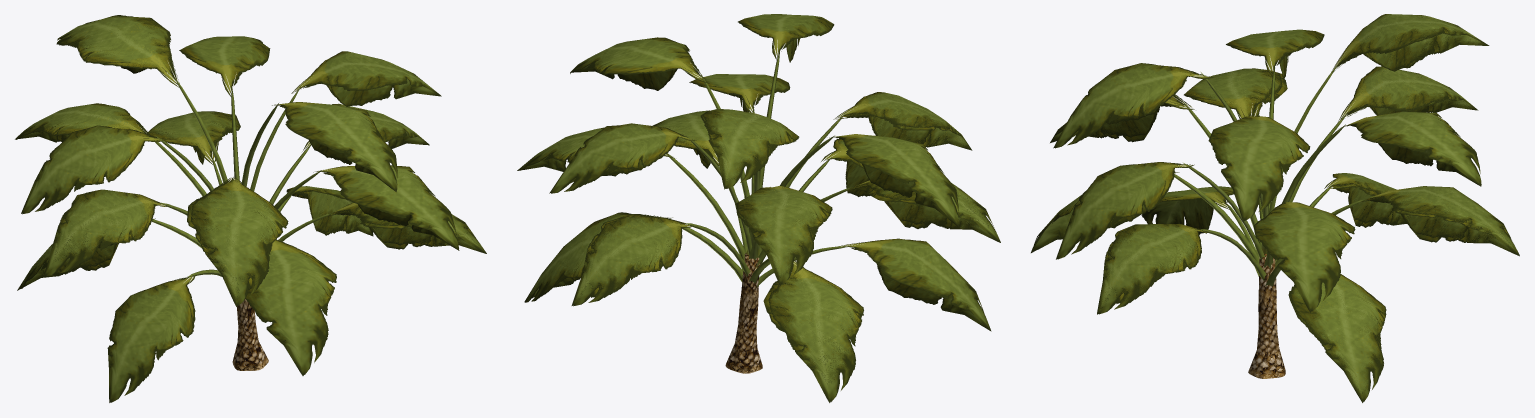
Rendered from SM_TI_Palm_ChunkyLeaves_1.fbx.
3 views of the same model, side by side, from view 1: azimuth 30°, elevation 25°; view 2: azimuth 150°, elevation 25°; view 3: azimuth 270°, elevation 25° (orthographic). The views are drawn at different scales.
Visible parts, largest first — view 1: SM_TI_Palm_ChunkyLeaves_1; view 2: SM_TI_Palm_ChunkyLeaves_1; view 3: SM_TI_Palm_ChunkyLeaves_1.
Boxes of the visible parts, x1,y1,x2,y2 form: SM_TI_Palm_ChunkyLeaves_1: [15, 15, 486, 402]; SM_TI_Palm_ChunkyLeaves_1: [517, 14, 1000, 402]; SM_TI_Palm_ChunkyLeaves_1: [1031, 14, 1519, 402].
Bounding box in the file's own units: 13.5 × 12.73 × 9.18.
